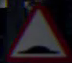Speed Breaker ahead: (3, 8, 63, 51)
